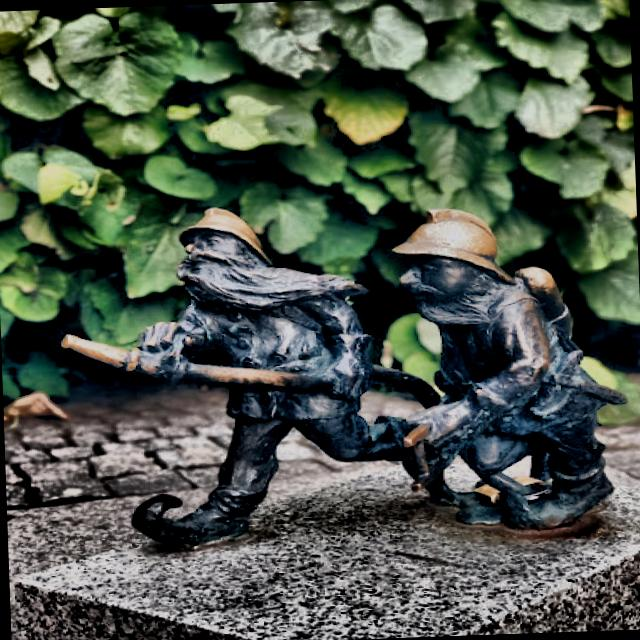Pozarki: (61, 208, 628, 550)
